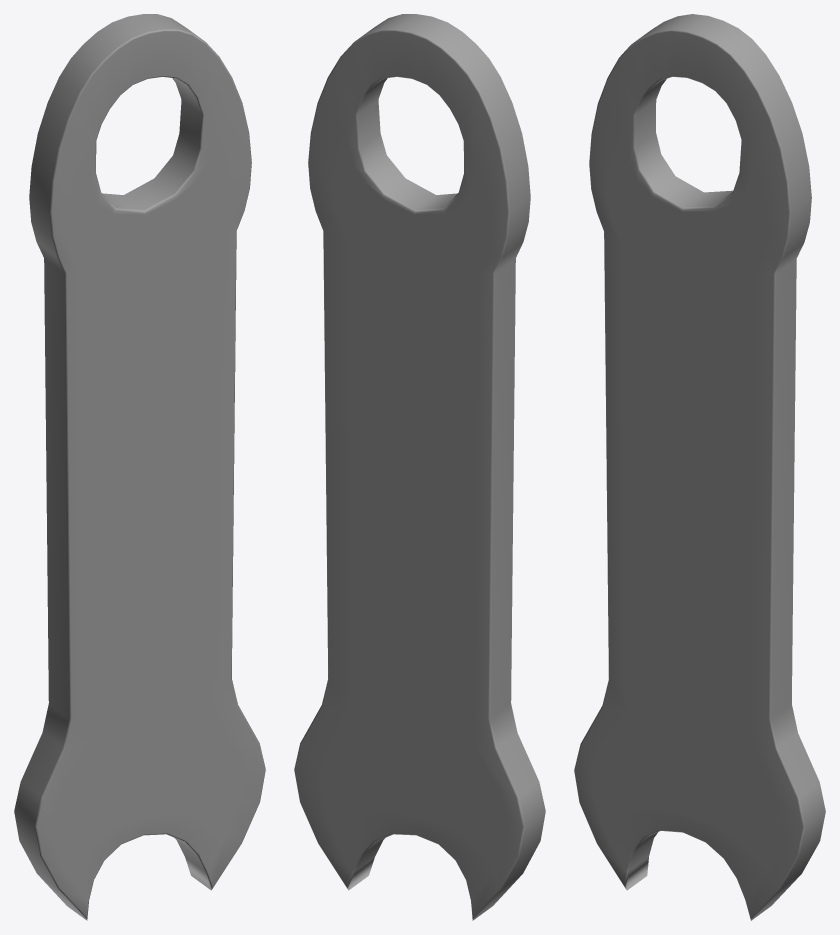
File: Town_5_Wrench_1.glb
The picture shows the model from 3 angles, left to right: view 1: azimuth 30°, elevation 25°; view 2: azimuth 150°, elevation 25°; view 3: azimuth 330°, elevation 25°; orthographic projection.
Visible parts, largest first — view 1: Town_5_Wrench_1; view 2: Town_5_Wrench_1; view 3: Town_5_Wrench_1.
Part boxes in pixels (x1,y1,x2,y2): Town_5_Wrench_1: (14,14,265,920); Town_5_Wrench_1: (294,14,545,920); Town_5_Wrench_1: (574,14,825,920).
Size of the model in its own units: 0.1734 by 0.6266 by 0.0291.
Materials: 1 (1 with a texture image).
